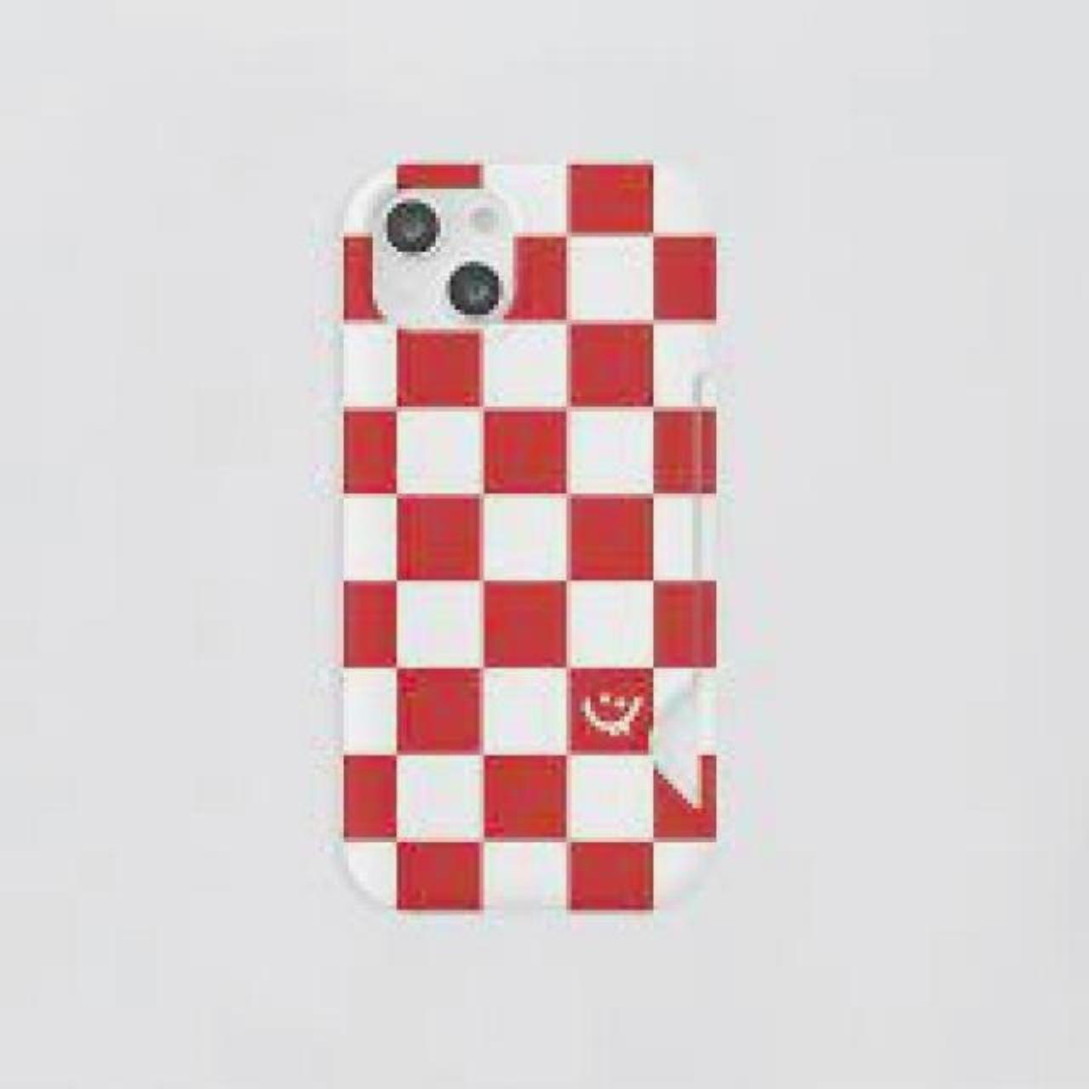phone: (330, 150, 733, 912)
